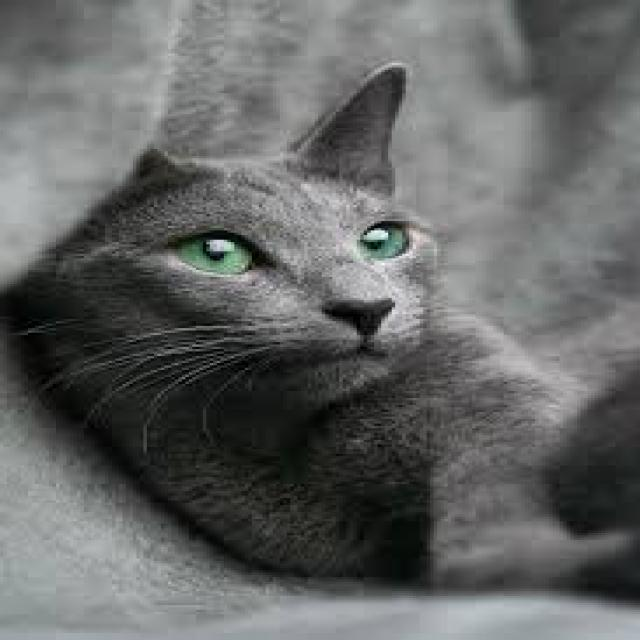Cat: (15, 63, 640, 596)
